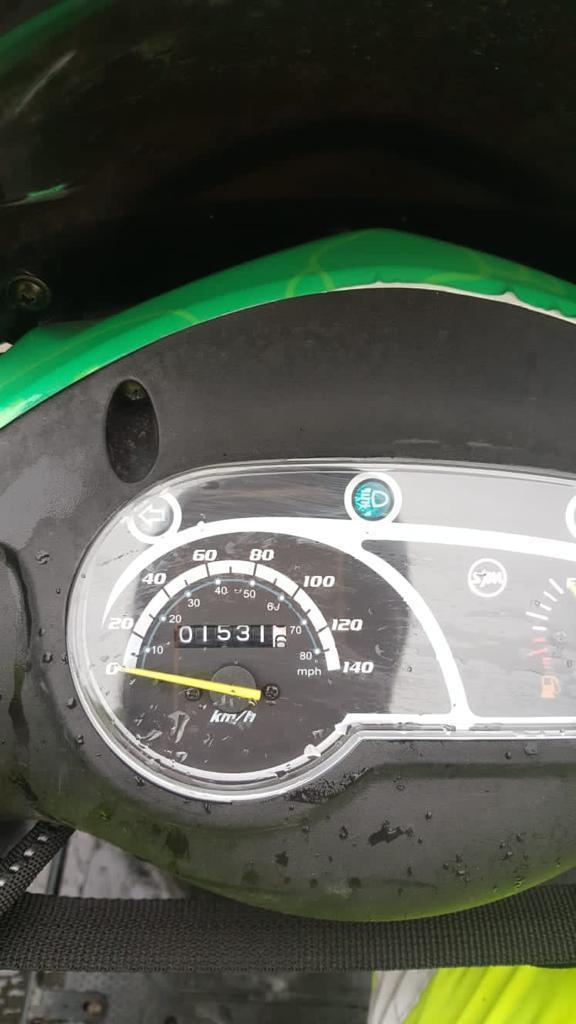0: (177, 624, 192, 644)
1: (257, 623, 268, 646), (200, 624, 211, 645)
3: (236, 624, 249, 644)
5: (216, 624, 233, 645)
6: (275, 631, 286, 648)
odometer: (173, 622, 288, 649)
